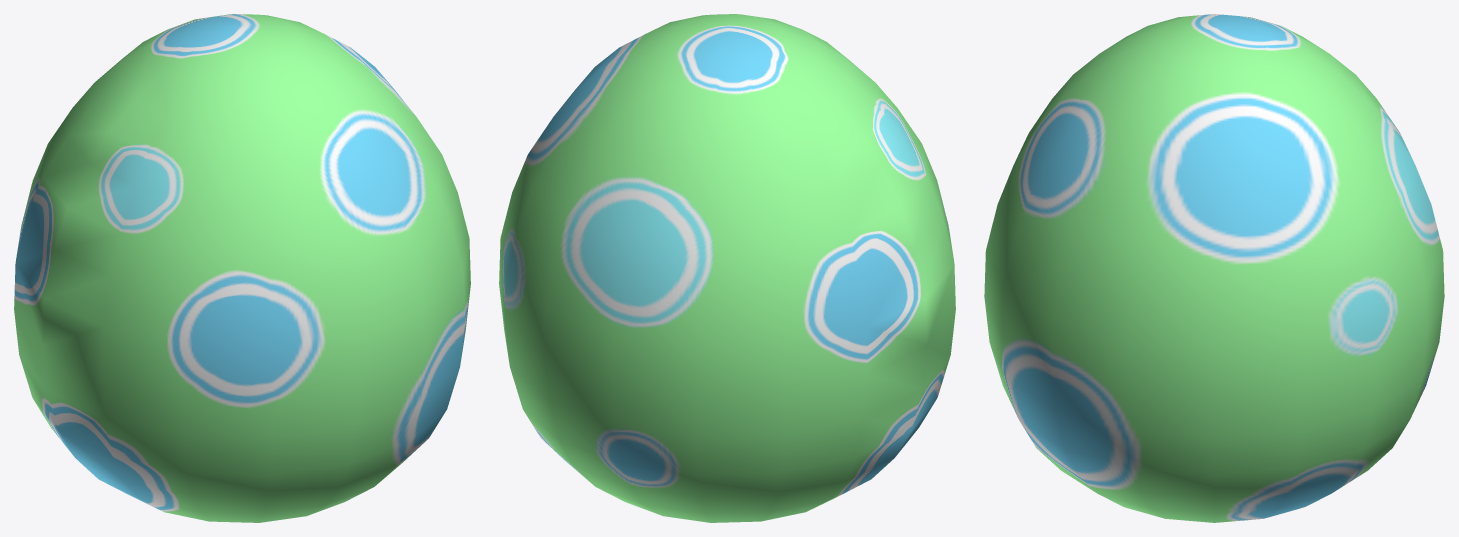
The model's file is egglevel1.fbx.
3 renders of one model, left to right at view 1: azimuth 30°, elevation 25°; view 2: azimuth 150°, elevation 25°; view 3: azimuth 270°, elevation 25°, orthographic.
Visible parts, largest first — view 1: egg.1; view 2: egg.1; view 3: egg.1.
Part boxes in pixels (x1,y1,x2,y2): egg.1: (14, 14, 470, 522); egg.1: (499, 14, 955, 522); egg.1: (984, 14, 1444, 522).
Bounding box in the file's own units: 101 × 114 × 101.
